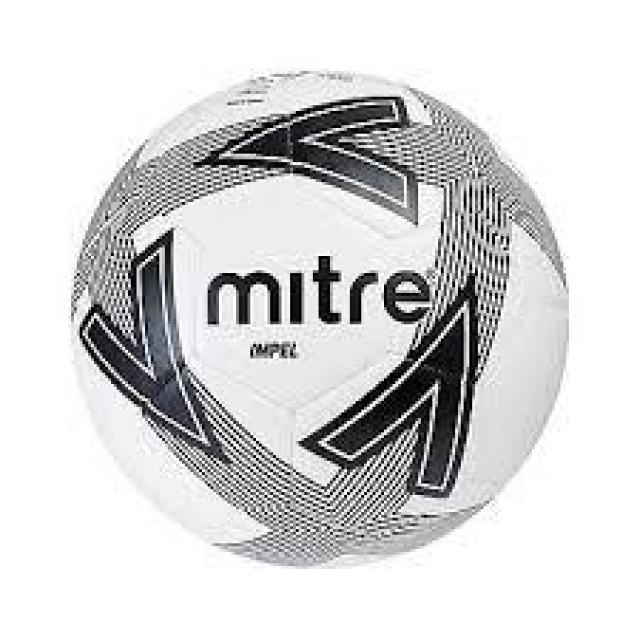ball: (58, 62, 583, 585)
